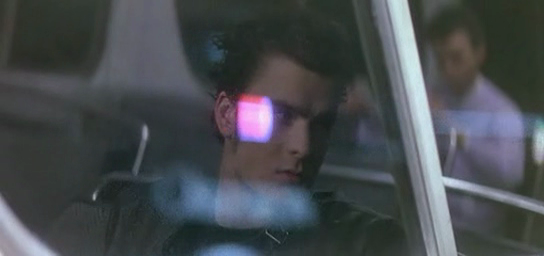cu: (1, 1, 544, 256)
face: (243, 74, 338, 208), (432, 31, 472, 94)
person: (38, 1, 411, 256), (424, 7, 526, 239)
